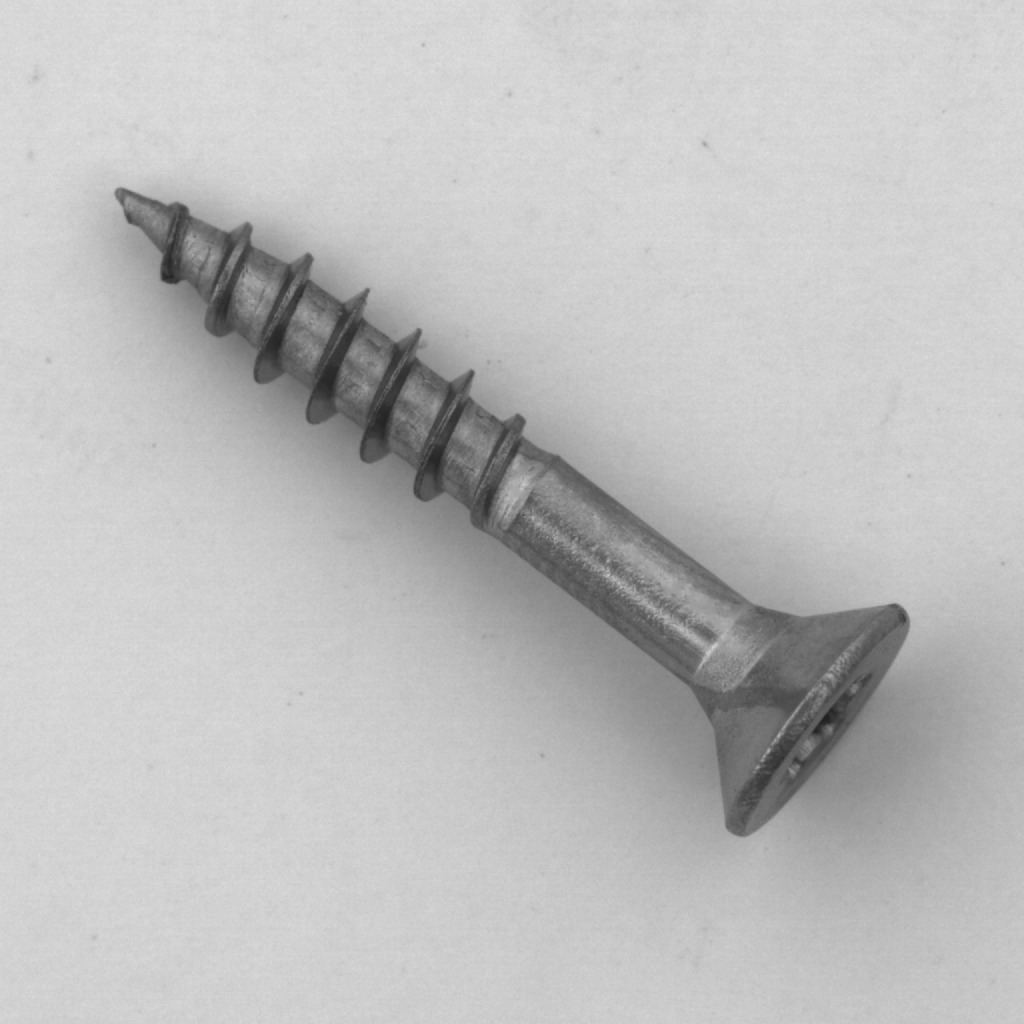good: (92, 158, 932, 851)
